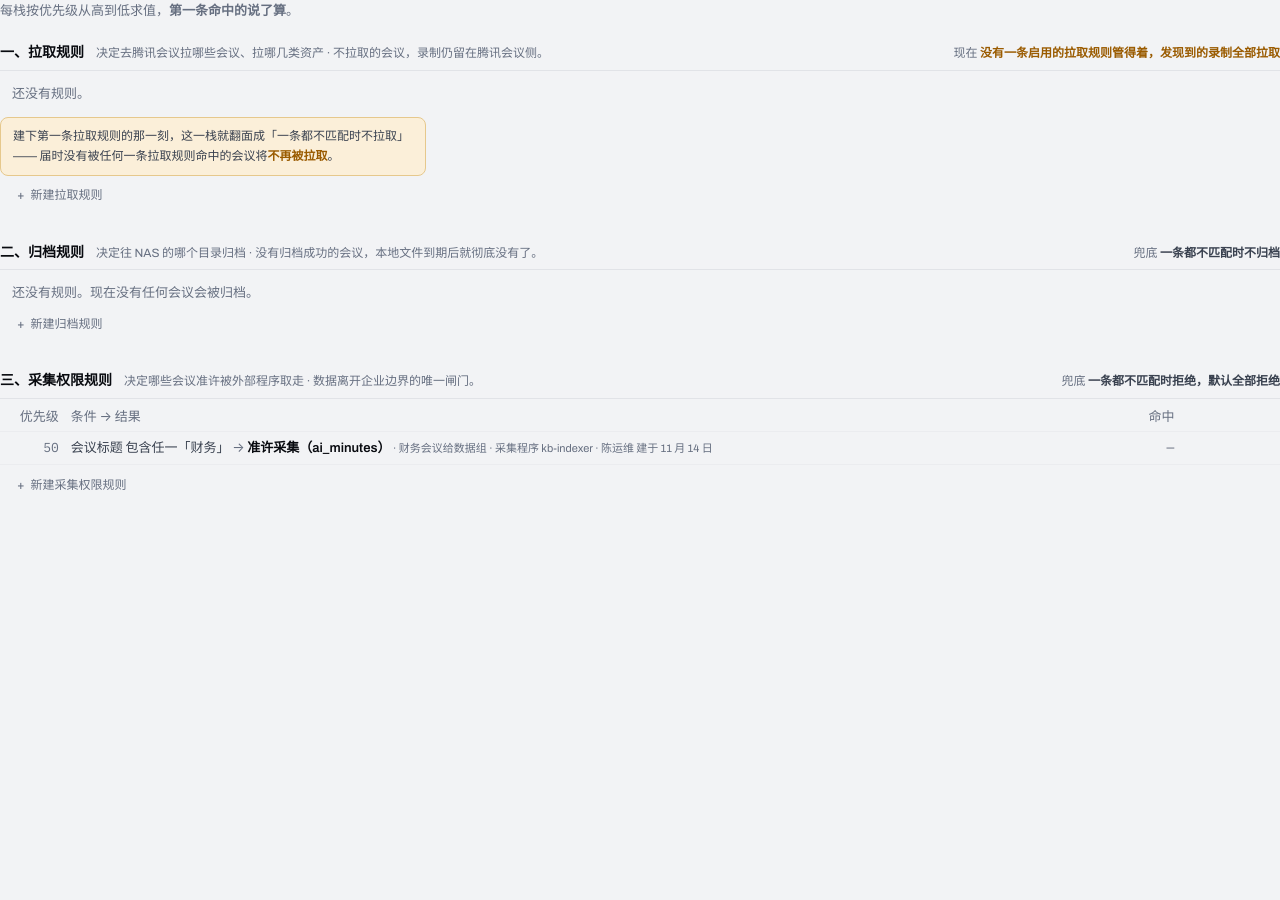
Scenario: 命中的会议 › 「标题缺失」与「标题为空」是两句不同的话（阶段 4 · T13）
Click the button named "命中". click: (1139, 448)
box: [1104,438,1174,458]
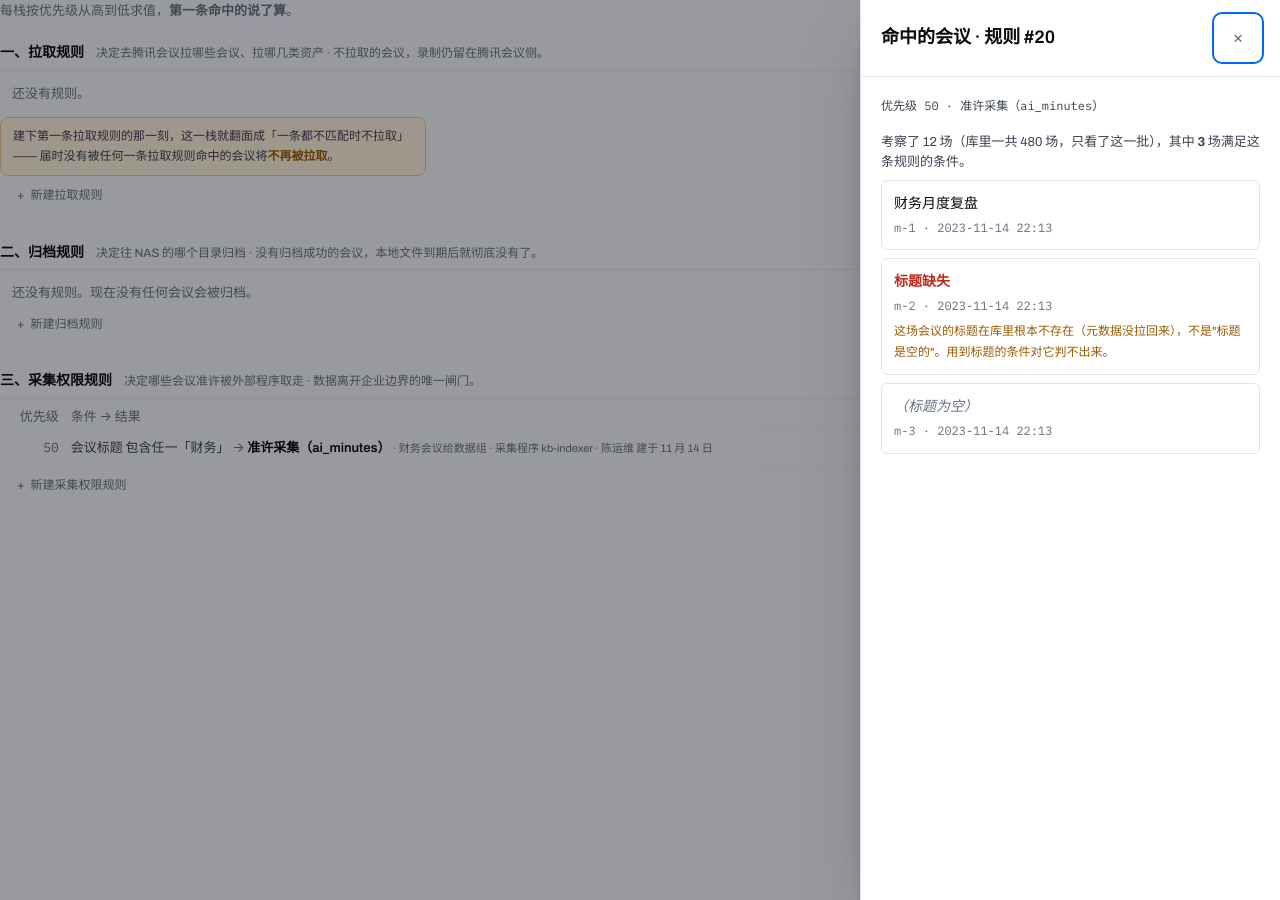
Expected: the text "标题缺失" is shown, [894,274,950,289]
Expected: the text "（标题为空）" is shown, [894,399,978,414]
Expected: the dialog "命中的会议" shows "12", [923,135,937,149]
